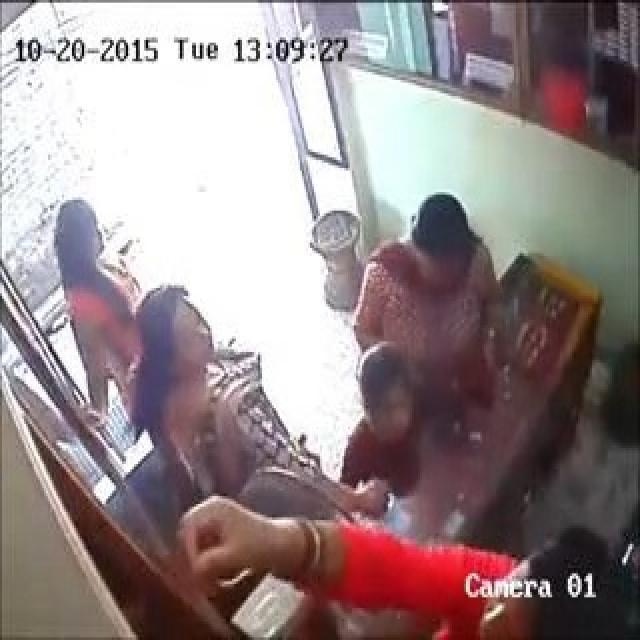Shoplifting: (158, 284, 235, 387), (342, 475, 413, 520)
